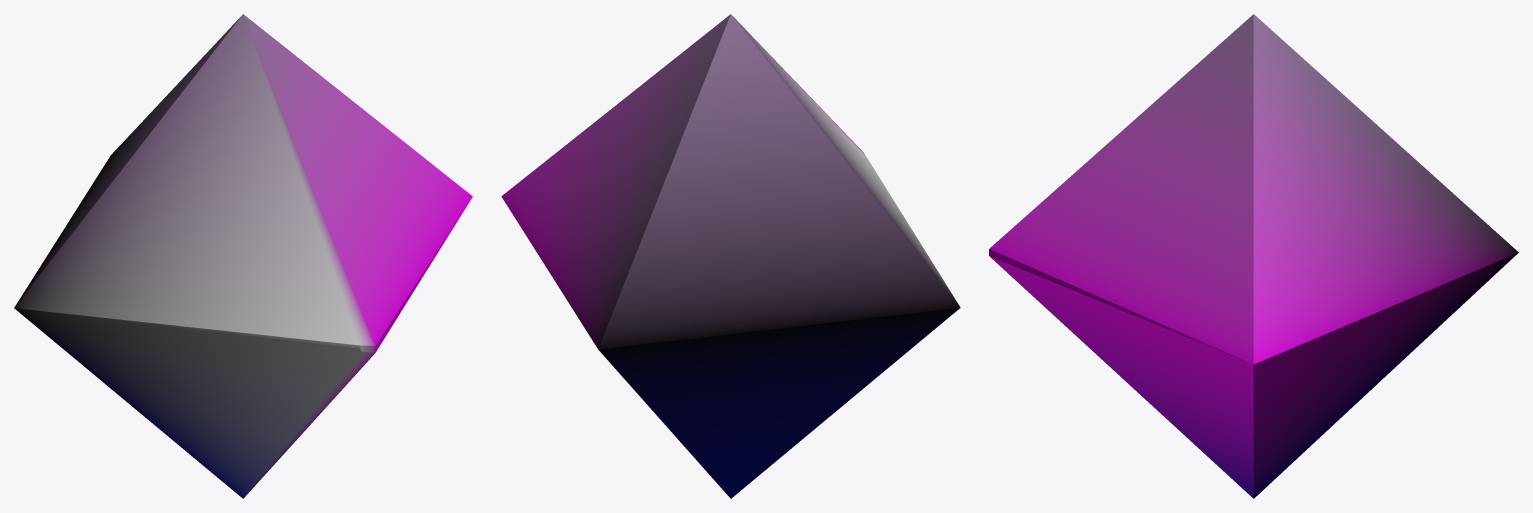
Rendered from Gem.fbx.
3 views of the same model, side by side, from view 1: azimuth 30°, elevation 25°; view 2: azimuth 150°, elevation 25°; view 3: azimuth 270°, elevation 25° (orthographic).
Parts seen in each view (by area): view 1: Gem; view 2: Gem; view 3: Gem.
Part boxes in pixels (x1=…): Gem: x1=14, y1=14, x2=472, y2=498; Gem: x1=501, y1=14, x2=960, y2=498; Gem: x1=989, y1=14, x2=1518, y2=498.
Size of the model in its own units: 0.9908 by 1 by 0.9904.
